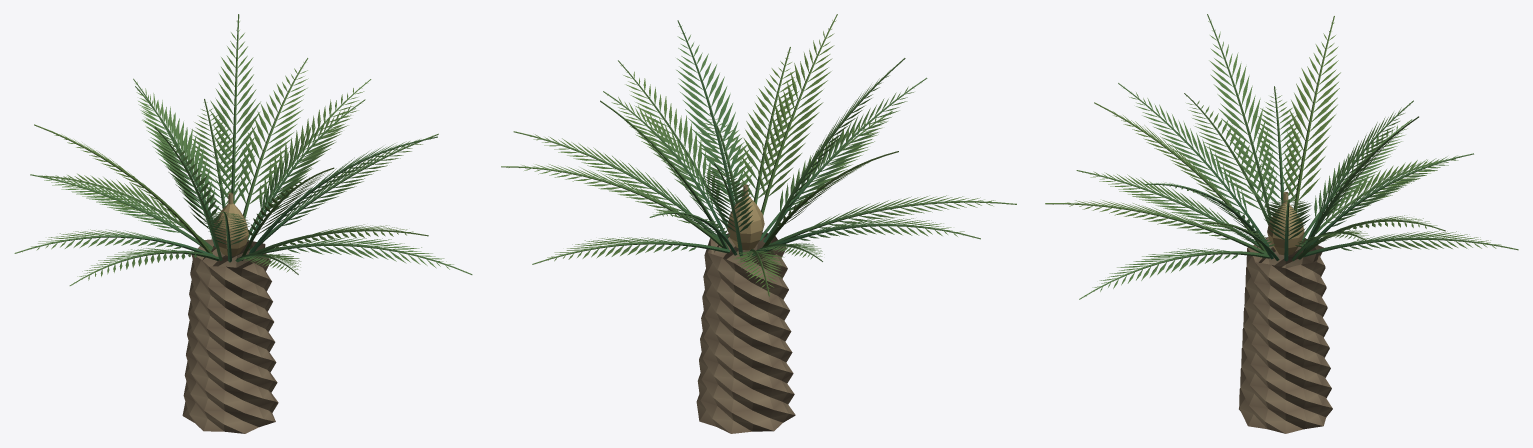
The model's file is cycad_c.glb.
3 renders of one model, left to right at view 1: azimuth 30°, elevation 25°; view 2: azimuth 150°, elevation 25°; view 3: azimuth 270°, elevation 25°, orthographic. The views are drawn at different scales.
Visible parts, largest first — view 1: cycad_c; view 2: cycad_c; view 3: cycad_c.
Part boxes in pixels (x1,y1,x2,y2): cycad_c: [14, 14, 472, 433]; cycad_c: [501, 14, 1016, 433]; cycad_c: [1045, 14, 1518, 433].
Bounding box in the file's own units: 3.24 × 2.63 × 3.29.
